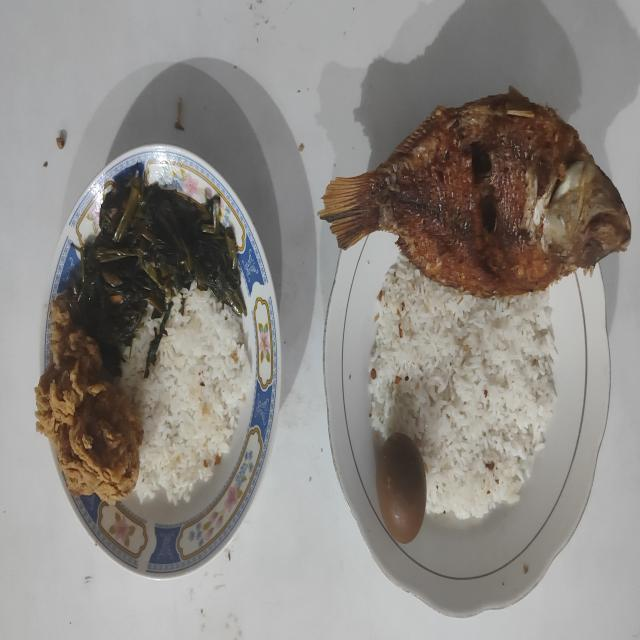ikan_mujair: (320, 88, 630, 298)
nasi_putih: (369, 255, 557, 520), (121, 288, 251, 504)
tumis_kangkung: (66, 162, 247, 378)
